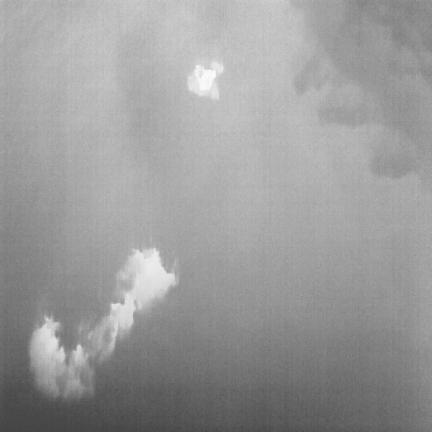flukeprints: (128, 249, 176, 309), (29, 317, 65, 396), (188, 62, 223, 99), (111, 291, 136, 335)
